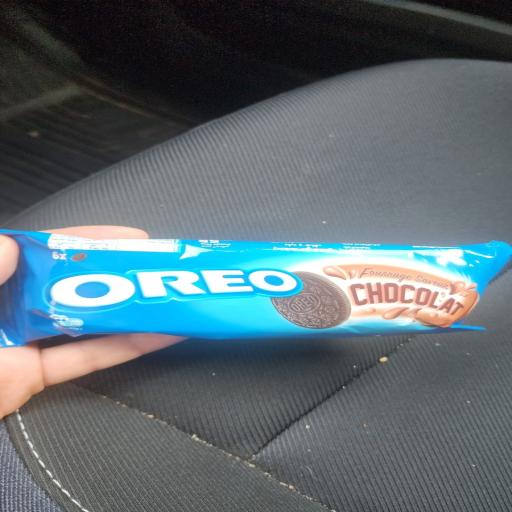oreo: (0, 199, 512, 373)
